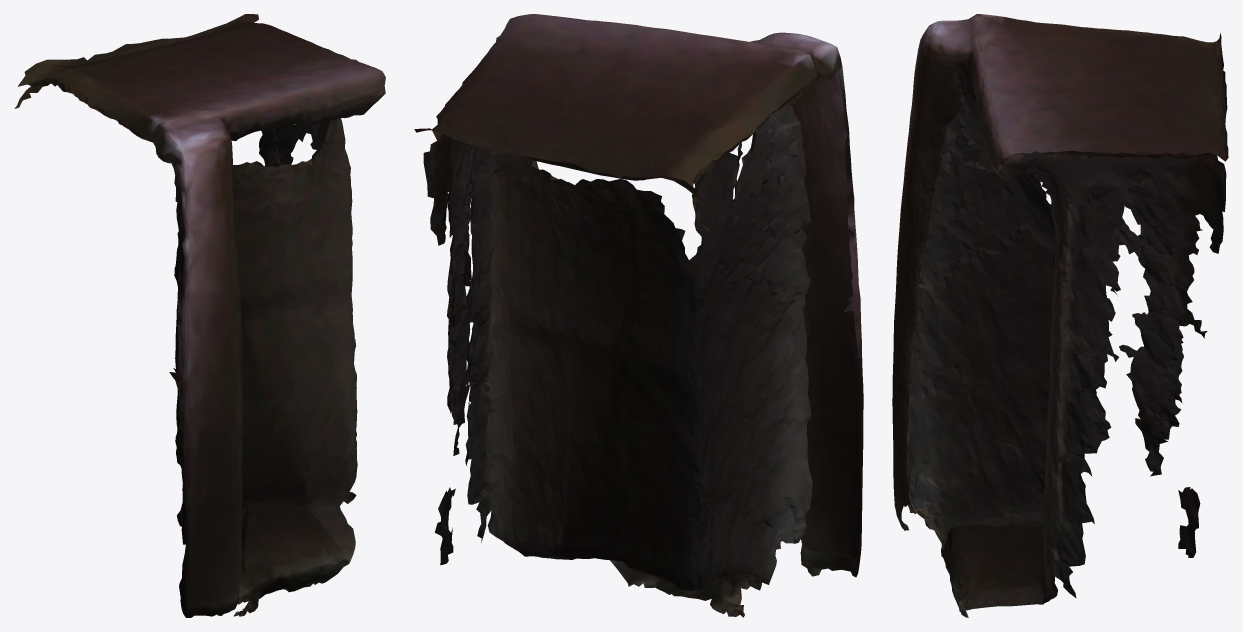
File: 9-couch.rot.obj
3 views of the same model, side by side, from view 1: azimuth 30°, elevation 25°; view 2: azimuth 150°, elevation 25°; view 3: azimuth 270°, elevation 25° (orthographic). The views are drawn at different scales.
Size of the model in its own units: 0.7508 by 1.33 by 0.7634.
